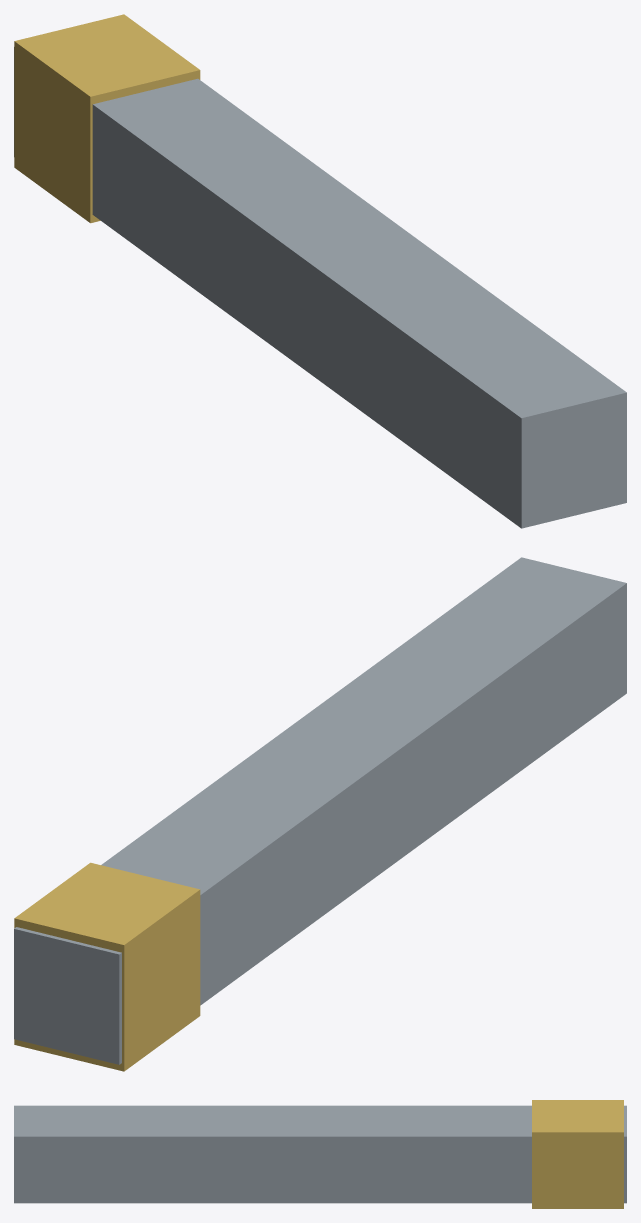
Rendered from warehouse_column.glb.
The picture shows the model from 3 angles, top to bottom: view 1: azimuth 30°, elevation 25°; view 2: azimuth 150°, elevation 25°; view 3: azimuth 270°, elevation 25°; orthographic projection. The views are drawn at different scales.
Parts seen in each view (by area): view 1: world; view 2: world; view 3: world.
Part boxes in pixels (x1,y1,x2,y2): world: [14, 14, 626, 528]; world: [14, 557, 626, 1071]; world: [14, 1100, 626, 1208].
Bounding box in the file's own units: 0.5 × 0.55 × 4.
